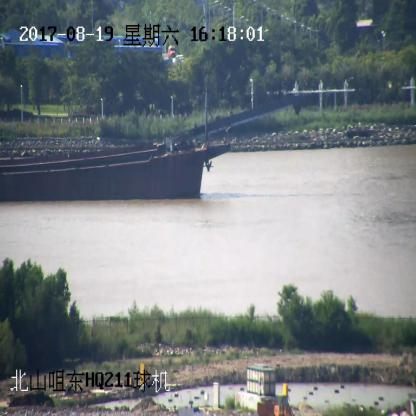Bulk Carrier: (0, 94, 300, 201)
